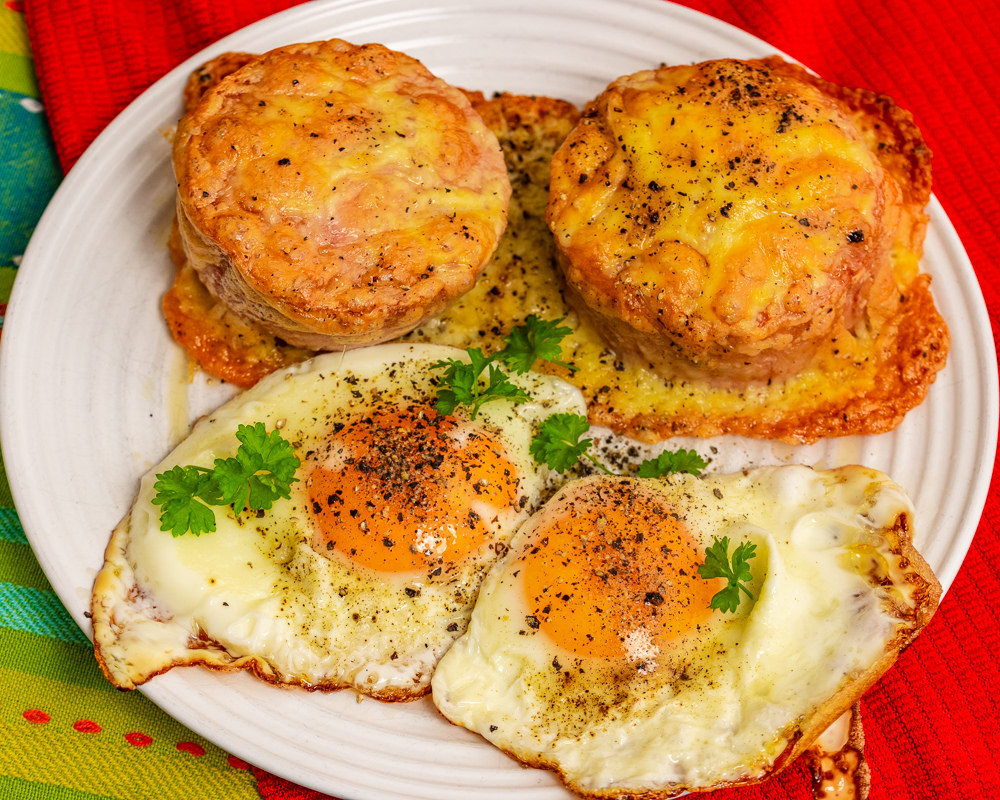fried egg: (202, 425, 837, 712)
